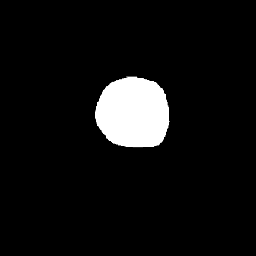mass: (97, 79, 164, 143)
